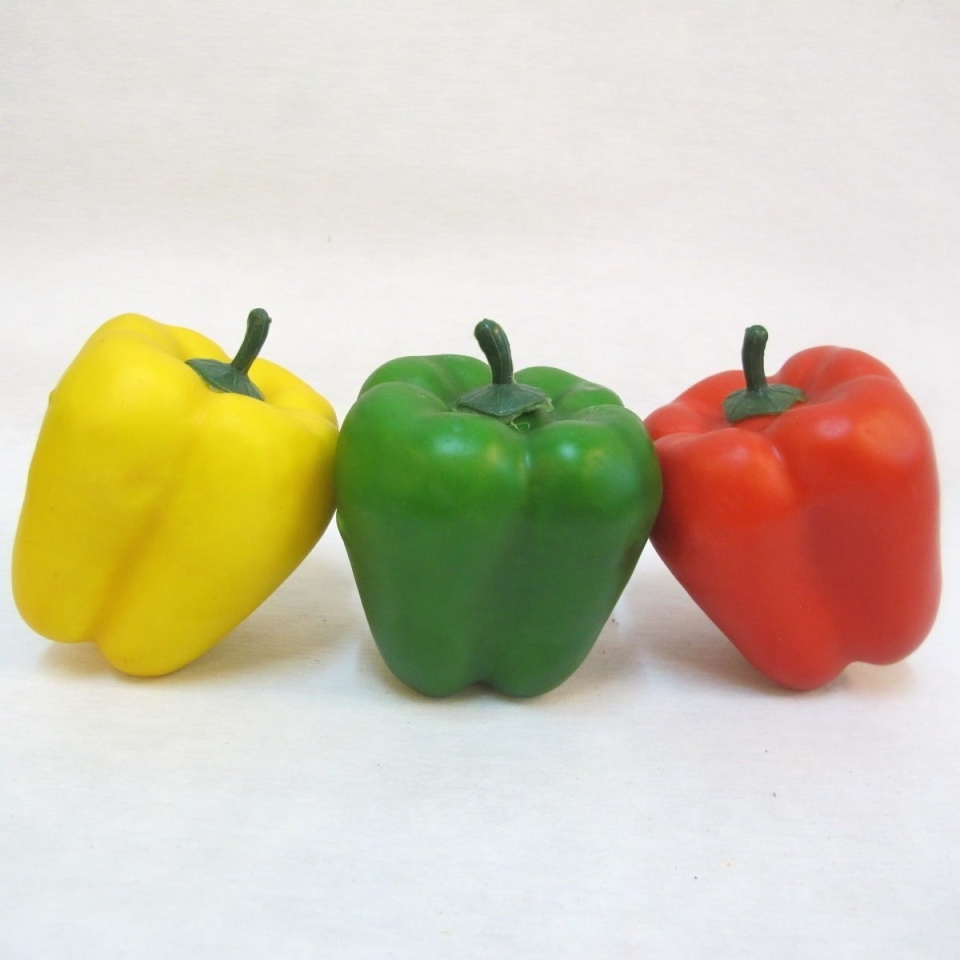fruit: (9, 311, 338, 681), (335, 351, 665, 702), (646, 344, 942, 692)
pedicle: (184, 355, 270, 407), (456, 379, 552, 419), (722, 380, 811, 422)
